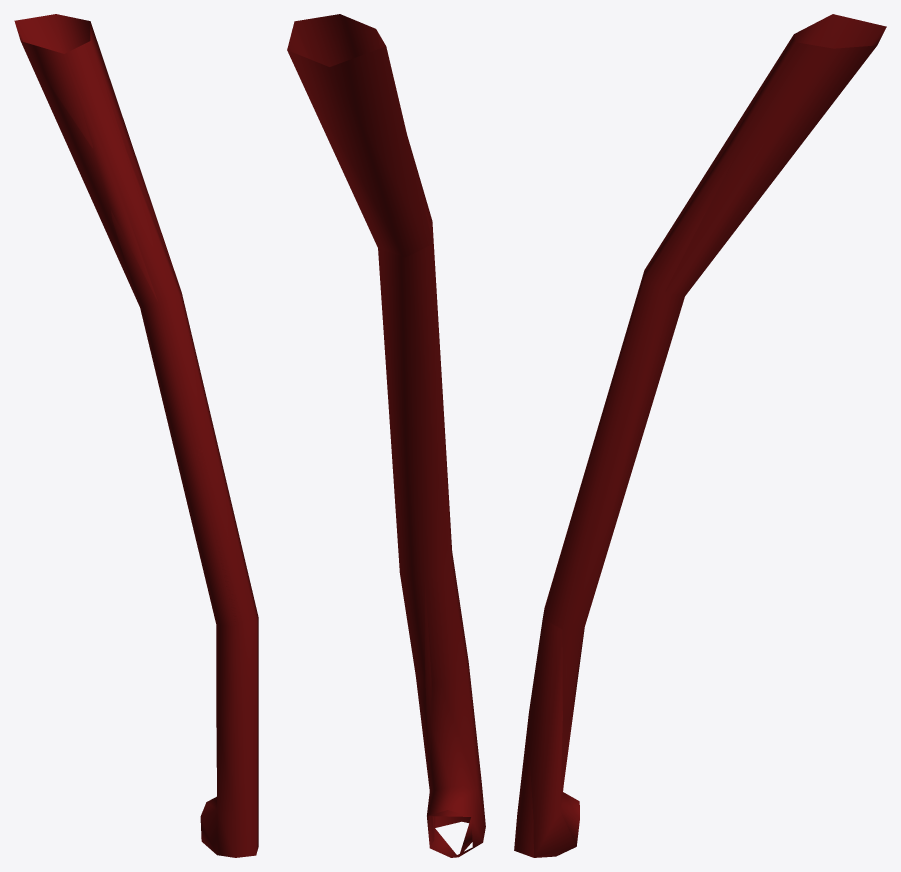
File: R brachialis.fbx
3 renders of one model, left to right at view 1: azimuth 30°, elevation 25°; view 2: azimuth 150°, elevation 25°; view 3: azimuth 270°, elevation 25°, orthographic. The views are drawn at different scales.
Visible parts, largest first — view 1: R brachialis, R brachialis low; view 2: R brachialis, R brachialis low; view 3: R brachialis, R brachialis low.
Part boxes in pixels (<box>): R brachialis: <box>14,14,258,857</box>; R brachialis low: <box>21,22,258,842</box>; R brachialis: <box>287,14,485,857</box>; R brachialis low: <box>287,14,472,855</box>; R brachialis: <box>514,14,886,857</box>; R brachialis low: <box>528,14,876,857</box>.
Size of the model in its own units: 1.53 by 9.56 by 4.03.
